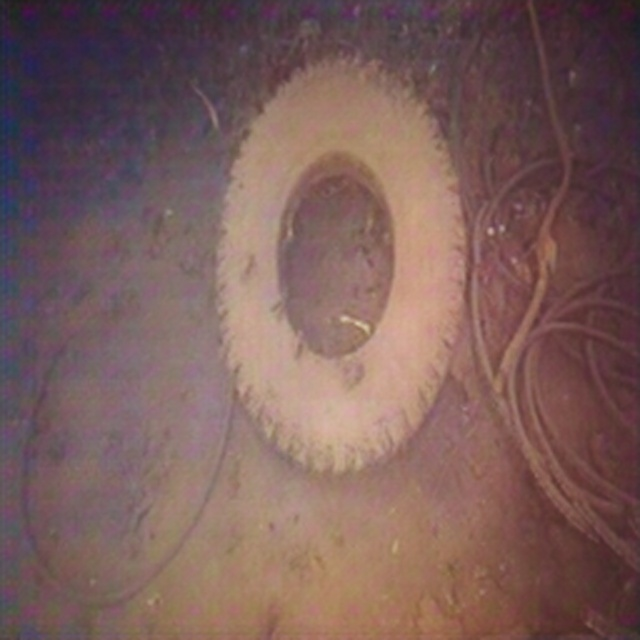mine: (216, 50, 468, 478)
